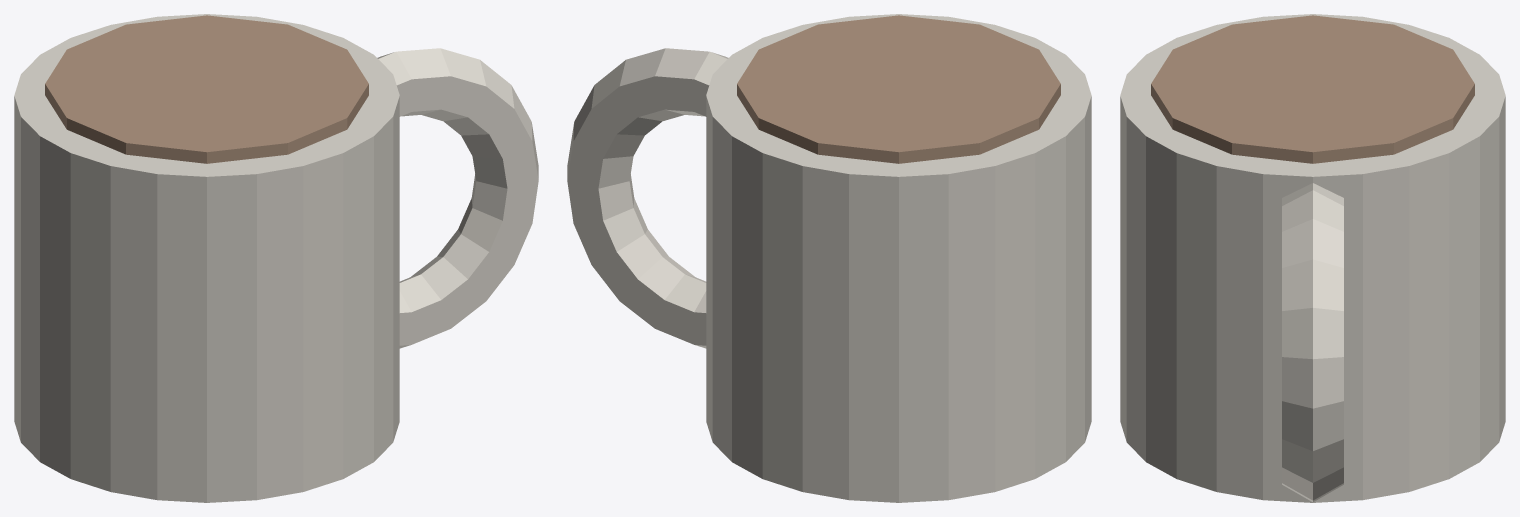
The model's file is mug.glb.
3 renders of one model, left to right at view 1: azimuth 30°, elevation 25°; view 2: azimuth 150°, elevation 25°; view 3: azimuth 270°, elevation 25°, orthographic.
Visible parts, largest first — view 1: mug_000, mug_001, mug_002; view 2: mug_000, mug_001, mug_002; view 3: mug_000, mug_001, mug_002.
Boxes of the visible parts, bbox=[...] form: mug_000: bbox=[14, 14, 399, 502]; mug_001: bbox=[45, 15, 368, 163]; mug_002: bbox=[377, 48, 538, 348]; mug_000: bbox=[706, 14, 1091, 502]; mug_001: bbox=[737, 15, 1060, 163]; mug_002: bbox=[567, 48, 728, 348]; mug_000: bbox=[1120, 14, 1505, 502]; mug_001: bbox=[1151, 15, 1474, 163]; mug_002: bbox=[1282, 183, 1343, 501].
Size of the model in its own units: 0.224 by 0.145 by 0.15.
